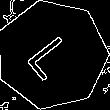L_NE: (22, 27, 82, 83)
